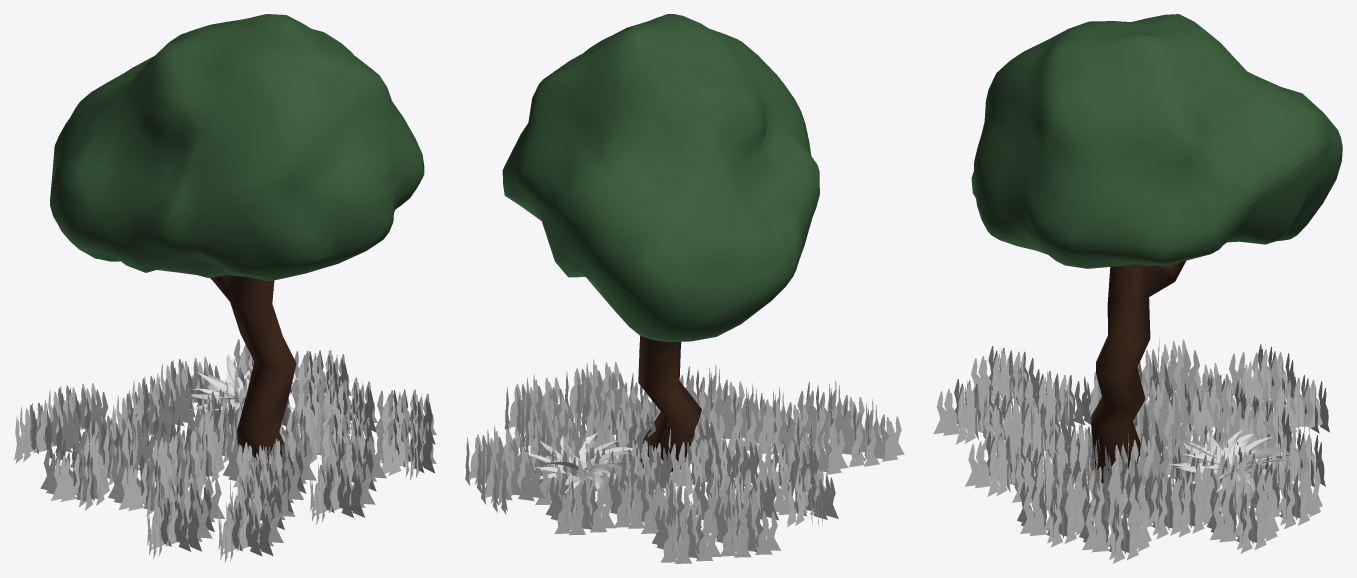
File: tree_wk_4_.fbx
3 views of the same model, side by side, from view 1: azimuth 30°, elevation 25°; view 2: azimuth 150°, elevation 25°; view 3: azimuth 270°, elevation 25° (orthographic). The views are drawn at different scales.
Parts seen in each view (by area): view 1: Tree Bush, Grass, Tree trunk, Leaf.017; view 2: Tree Bush, Grass, Tree trunk, Leaf.017; view 3: Tree Bush, Grass, Tree trunk, Leaf.017.
Part boxes in pixels (left/top/right/bottom): Tree Bush: left=50, top=14, right=424, bottom=281; Grass: left=14, top=339, right=436, bottom=563; Tree trunk: left=210, top=275, right=296, bottom=465; Leaf.017: left=186, top=354, right=299, bottom=411; Tree Bush: left=502, top=14, right=819, bottom=342; Grass: left=465, top=359, right=904, bottom=563; Tree trunk: left=638, top=336, right=701, bottom=472; Leaf.017: left=527, top=432, right=632, bottom=493; Tree Bush: left=971, top=14, right=1342, bottom=268; Grass: left=933, top=338, right=1329, bottom=563; Tree trunk: left=1091, top=261, right=1185, bottom=483; Leaf.017: left=1169, top=429, right=1291, bottom=492.
Size of the model in its own units: 1667 by 1956 by 1592.
